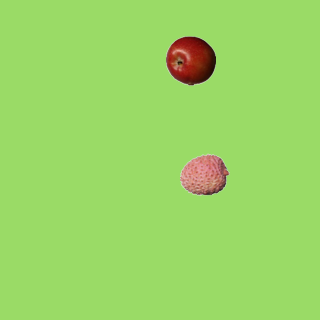Apple Braeburn: (165, 35, 215, 85)
Lychee: (179, 149, 229, 199)
